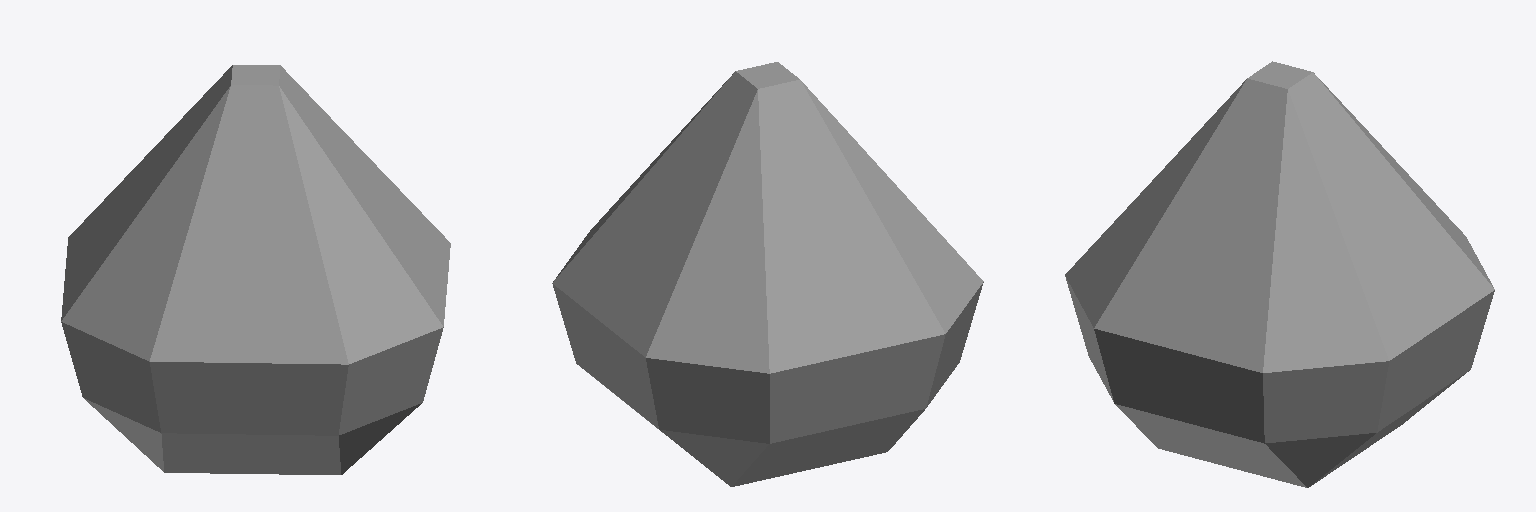
The model's file is gem2.obj.
The picture shows the model from 3 angles: view 1: azimuth 30°, elevation 25°; view 2: azimuth 150°, elevation 25°; view 3: azimuth 270°, elevation 25°; orthographic projection.
Parts seen in each view (by area): view 1: Gem2_Cube.002; view 2: Gem2_Cube.002; view 3: Gem2_Cube.002.
Part boxes in pixels (bbox=[...]): Gem2_Cube.002: bbox=[61, 65, 450, 474]; Gem2_Cube.002: bbox=[552, 62, 983, 486]; Gem2_Cube.002: bbox=[1065, 61, 1494, 487].
Size of the model in its own units: 0.2146 by 0.1989 by 0.2146.